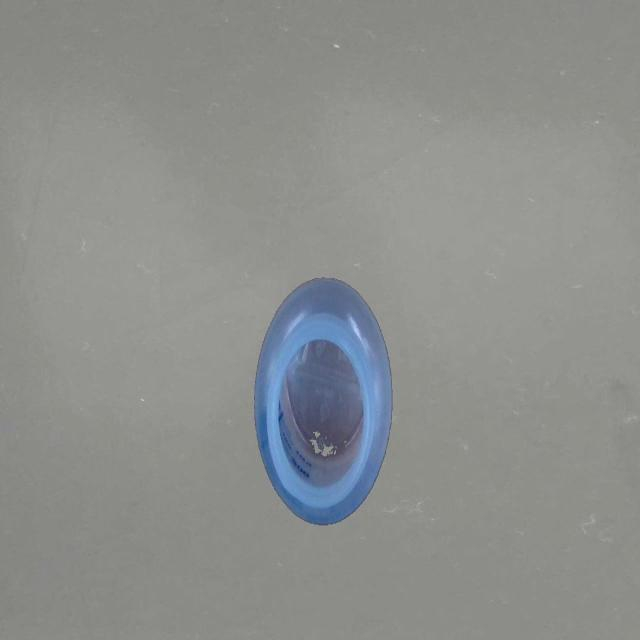bottle: (252, 272, 394, 530)
